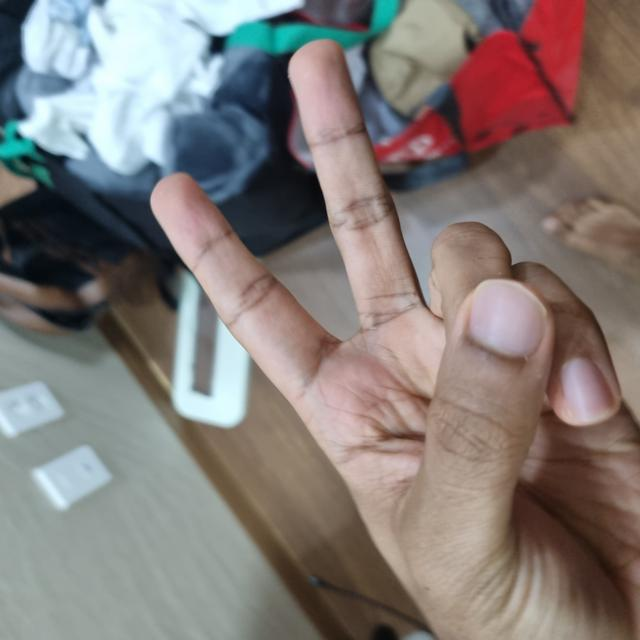Scissors: (0, 154, 600, 640)
